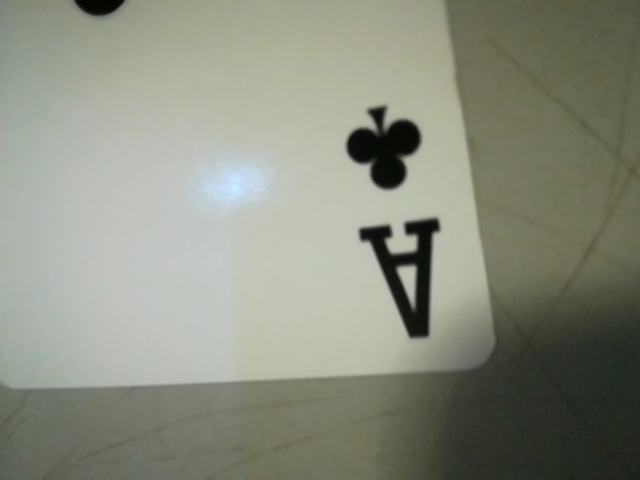mh a: (315, 92, 467, 354)
